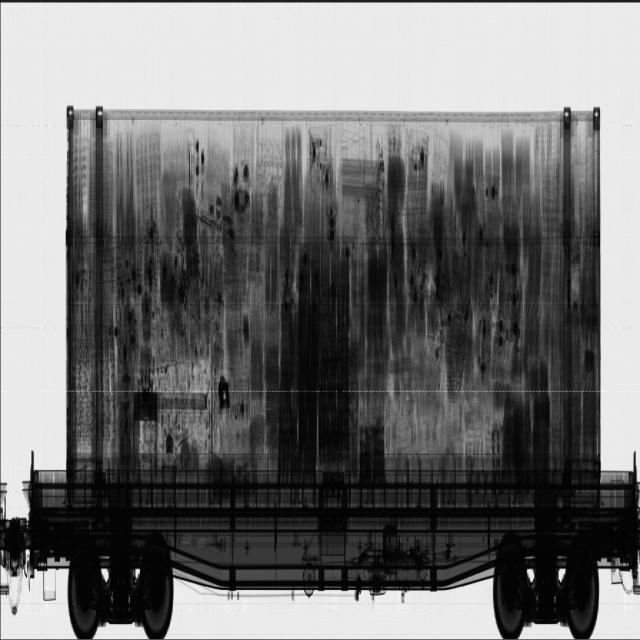auto parts: (277, 242, 386, 481)
